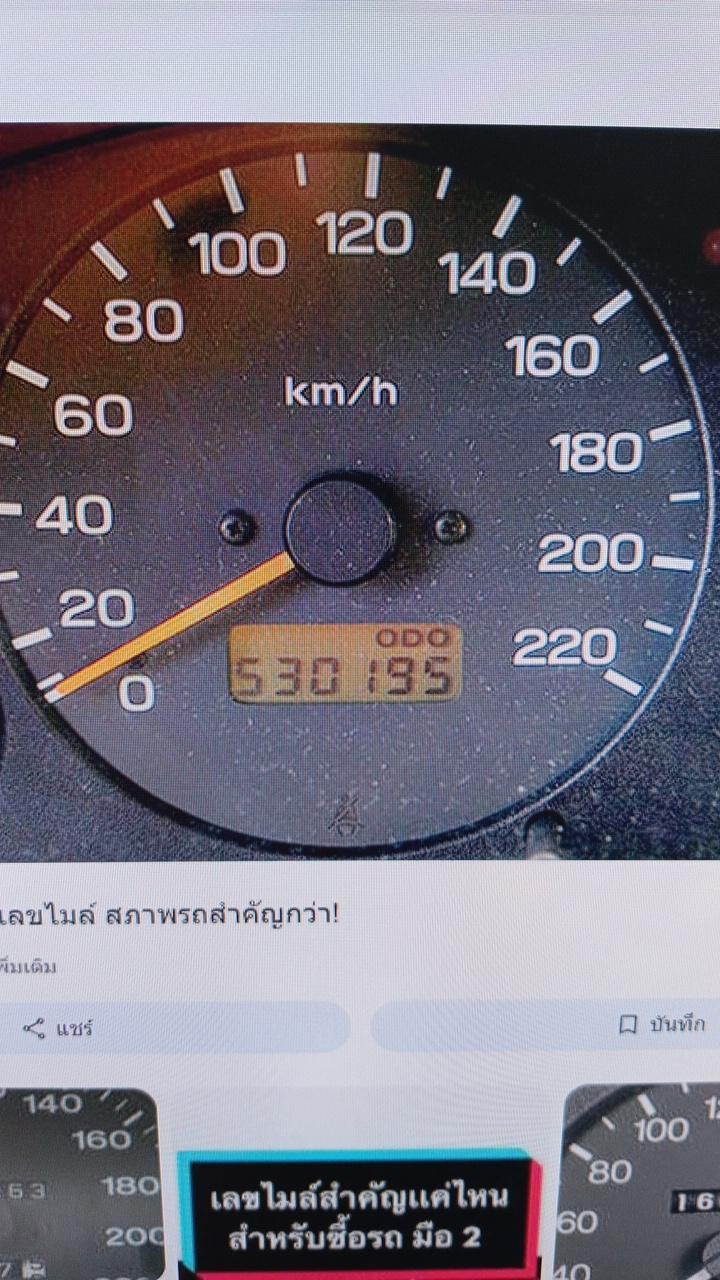0: (311, 655, 339, 696)
1: (366, 656, 378, 695)
3: (273, 656, 302, 697)
5: (234, 656, 262, 697), (423, 655, 451, 695)
9: (386, 655, 415, 696)
odometer: (226, 620, 463, 706)
